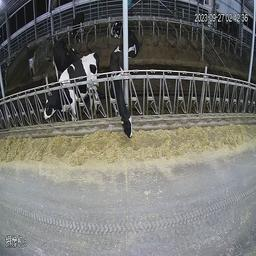cow: (42, 52, 98, 121), (108, 45, 135, 140), (51, 39, 82, 70), (107, 17, 123, 39), (129, 24, 140, 56), (71, 11, 84, 36)
